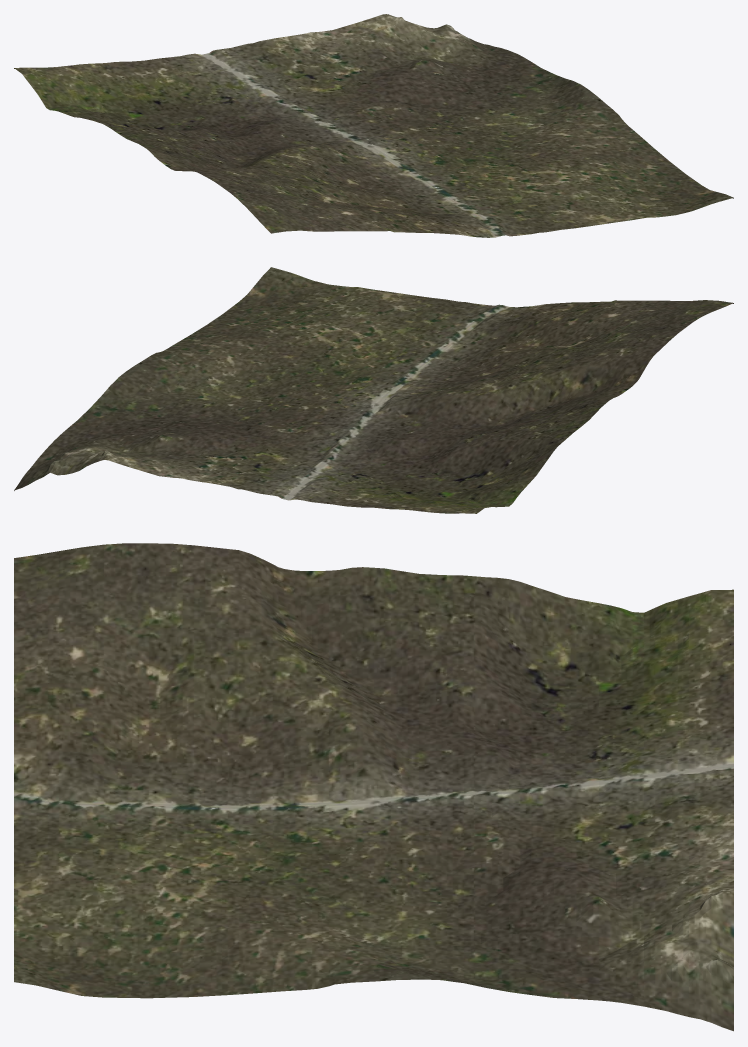
3 views of the same model, one above another, from view 1: azimuth 30°, elevation 25°; view 2: azimuth 150°, elevation 25°; view 3: azimuth 270°, elevation 25° (orthographic). The views are drawn at different scales.
Size of the model in its own units: 500 by 128 by 481.
1 material, 1 textured.
